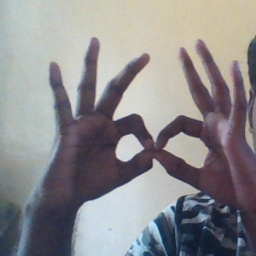B: (97, 91, 224, 187)
